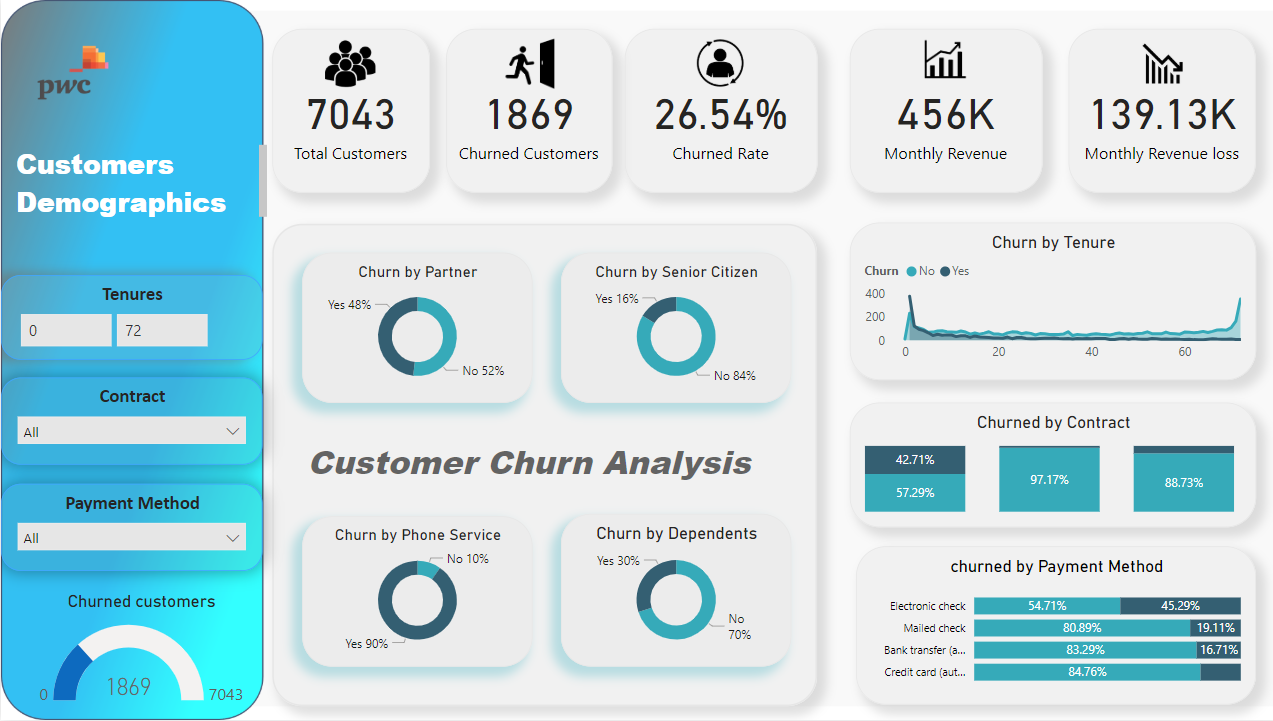

The dashboard page shown, as its layout file describes it:
{"tool":"powerbi","page":{"name":"Page 1","canvas":[1280,720],"ordinal":0},"visuals":[{"type":"card","fields":{"Values":["CountNonNull(churnData.customerID)"]},"box":[271.2,28.8,157.5,163.8],"z":0},{"type":"textbox","box":[301.2,433.8,502.5,80],"z":1000},{"type":"card","fields":{"Values":["Sum(churnData.churned2.0)"]},"box":[445,28.8,166.2,163.8],"z":2000},{"type":"card","fields":{"Values":["churnData.churnedRate"]},"box":[623.8,28.8,192.5,163.8],"z":3000},{"type":"card","fields":{"Values":["churnData.monthlyRevenue"]},"box":[848.8,28.8,192.5,163.8],"z":4000},{"type":"shape","box":[271.2,223.8,545,482.5],"z":5000},{"type":"hundredPercentStackedBarChart","title":"churned by Payment Method","fields":{"Category":["churnData.PaymentMethod"],"Y":["CountNonNull(churnData.customerID)"],"Series":["churnData.Churn"]},"box":[855,546.2,400,158.8],"z":6000},{"type":"hundredPercentStackedColumnChart","title":"Churned by Contract","fields":{"Category":["churnData.Contract"],"Y":["CountNonNull(churnData.customerID)"],"Series":["churnData.Churn"]},"box":[848.8,402.5,406.2,125],"z":7000},{"type":"lineChart","title":"Churn by Tenure","fields":{"Category":["churnData.tenure"],"Y":["CountNonNull(churnData.customerID)"],"Series":["churnData.Churn"]},"box":[848.8,222.5,406.2,157.5],"z":8000},{"type":"donutChart","title":"Churn by Partner","fields":{"Y":["CountNonNull(churnData.Churn)"],"Series":["churnData.Partner"]},"box":[301.2,252.5,230,150],"z":9000},{"type":"donutChart","title":"Churn by Dependents","fields":{"Y":["CountNonNull(churnData.Churn)"],"Series":["churnData.Dependents"]},"box":[560,513.8,230,152.5],"z":10000},{"type":"donutChart","title":"Churn by Phone Service","fields":{"Y":["CountNonNull(churnData.Churn)"],"Series":["churnData.PhoneService"]},"box":[301.2,516.2,230,150],"z":11000},{"type":"donutChart","title":"Churn by Senior Citizen","fields":{"Y":["CountNonNull(churnData.Churn)"],"Series":["churnData.seniorciti"]},"box":[560,252.5,230,150],"z":12000},{"type":"card","fields":{"Values":["churnData.Monthlyloss"]},"box":[1067.5,28.8,187.5,163.8],"z":13000},{"type":"gauge","title":"Churned customers","fields":{"Y":["Sum(churnData.churned2.0)"],"MaxValue":["CountNonNull(churnData.customerID)"]},"box":[28.8,591.2,223.8,128.8],"z":14000},{"type":"image","box":[311.2,33.8,76.2,60],"z":15000},{"type":"image","box":[490,33.8,77.5,60],"z":16000},{"type":"image","box":[1131.2,38.8,60,50],"z":17000},{"type":"image","box":[670,33.8,98.8,60],"z":18000},{"type":"image","box":[898.8,28.8,92.5,60],"z":19000},{"type":"slicer","title":"Contract","fields":{"Values":["churnData.Contract"]},"box":[0,377.5,261.2,87.5],"z":20000},{"type":"slicer","title":"Payment Method","fields":{"Values":["churnData.PaymentMethod"]},"box":[0,483.8,261.2,87.5],"z":21000},{"type":"slicer","title":"Tenures","fields":{"Values":["churnData.tenure"]},"box":[0,275,261.2,85],"z":22000},{"type":"textbox","box":[10,140,261.2,83.8],"z":23000}]}

Visuals, with their boxes in screenshot pixels (x1, y1, x2, y2), scaled from the page's 1280x720 canvas onto the 1273x721 screenshot:
card - CountNonNull(churnData.customerID): (270, 29, 426, 193)
textbox: (300, 434, 799, 515)
card - Sum(churnData.churned2.0): (443, 29, 608, 193)
card - churnData.churnedRate: (620, 29, 812, 193)
card - churnData.monthlyRevenue: (844, 29, 1036, 193)
shape: (270, 224, 812, 707)
"churned by Payment Method" hundredPercentStackedBarChart: (850, 547, 1248, 706)
"Churned by Contract" hundredPercentStackedColumnChart: (844, 403, 1248, 528)
"Churn by Tenure" lineChart: (844, 223, 1248, 381)
"Churn by Partner" donutChart: (300, 253, 528, 403)
"Churn by Dependents" donutChart: (557, 515, 786, 667)
"Churn by Phone Service" donutChart: (300, 517, 528, 667)
"Churn by Senior Citizen" donutChart: (557, 253, 786, 403)
card - churnData.Monthlyloss: (1062, 29, 1248, 193)
"Churned customers" gauge: (29, 592, 251, 720)
image: (309, 34, 385, 94)
image: (487, 34, 564, 94)
image: (1125, 39, 1185, 89)
image: (666, 34, 765, 94)
image: (894, 29, 986, 89)
"Contract" slicer: (0, 378, 260, 466)
"Payment Method" slicer: (0, 484, 260, 572)
"Tenures" slicer: (0, 275, 260, 360)
textbox: (10, 140, 270, 224)
